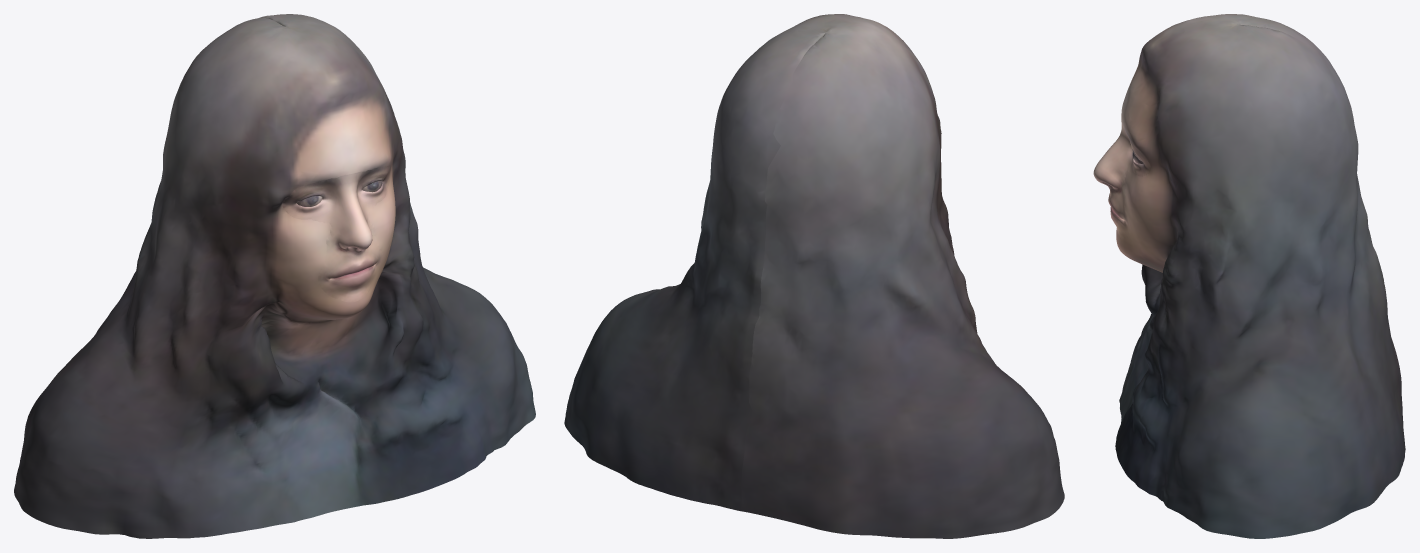
The model's file is JorgeNavarro.gltf.
3 views of the same model, side by side, from view 1: azimuth 30°, elevation 25°; view 2: azimuth 150°, elevation 25°; view 3: azimuth 270°, elevation 25° (orthographic). The views are drawn at different scales.
Visible parts, largest first — view 1: JorgeNavarro; view 2: JorgeNavarro; view 3: JorgeNavarro.
Part boxes in pixels (bbox=[...]): JorgeNavarro: bbox=[14, 14, 535, 538]; JorgeNavarro: bbox=[564, 14, 1064, 538]; JorgeNavarro: bbox=[1093, 14, 1405, 538].
Size of the model in its own units: 9.62 by 8.04 by 5.64.
Materials: 1 (1 with a texture image).
